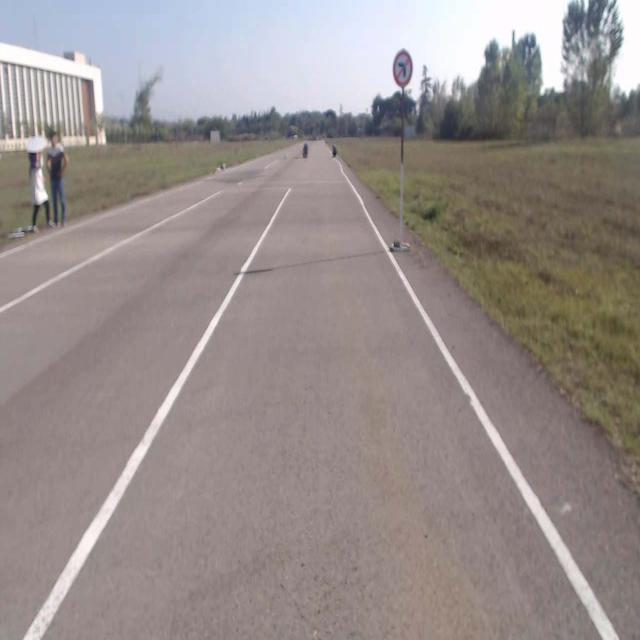soladonulmez: (393, 51, 412, 85)
